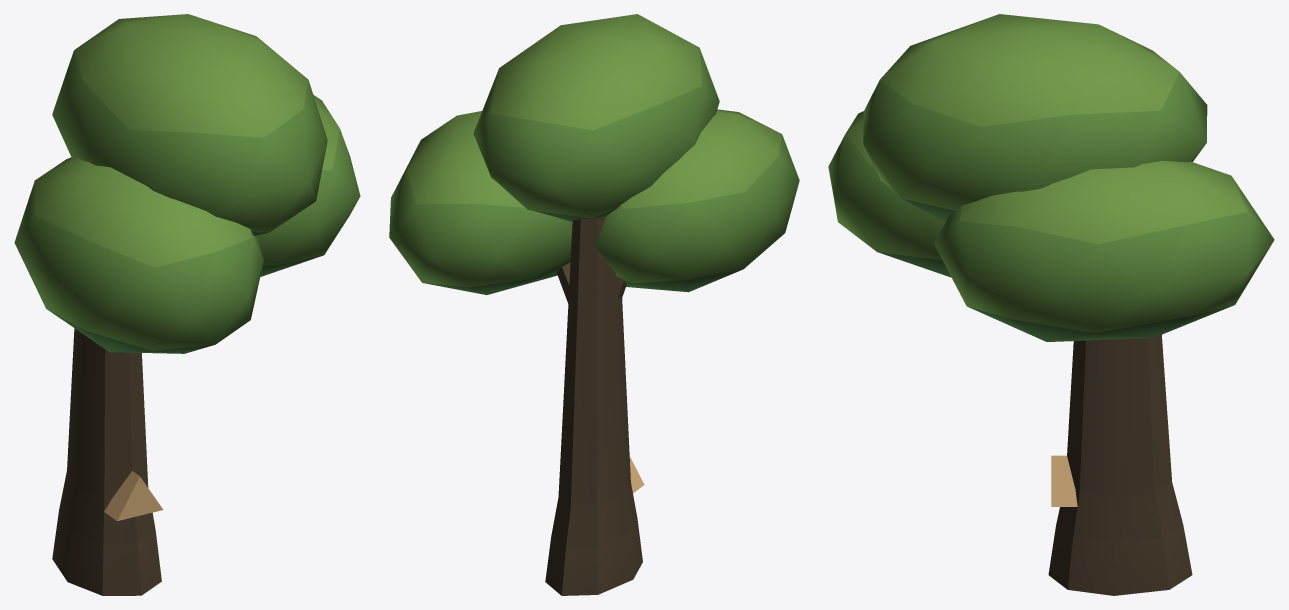
The model's file is SM_Tree_Oak_Small01.fbx.
3 renders of one model, left to right at view 1: azimuth 30°, elevation 25°; view 2: azimuth 150°, elevation 25°; view 3: azimuth 270°, elevation 25°, orthographic. The views are drawn at different scales.
Visible parts, largest first — view 1: SM_Tree_Oak_Small01; view 2: SM_Tree_Oak_Small01; view 3: SM_Tree_Oak_Small01.
Part boxes in pixels (x1,y1,x2,y2): SM_Tree_Oak_Small01: (14,14,360,595); SM_Tree_Oak_Small01: (389,14,799,595); SM_Tree_Oak_Small01: (828,14,1274,595).
Size of the model in its own units: 5.65 by 8.86 by 6.34.
Materials: 1 (1 with a texture image).
